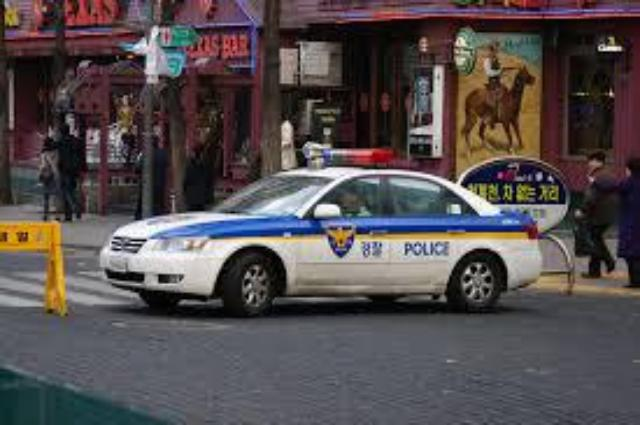police: (100, 149, 540, 307)
